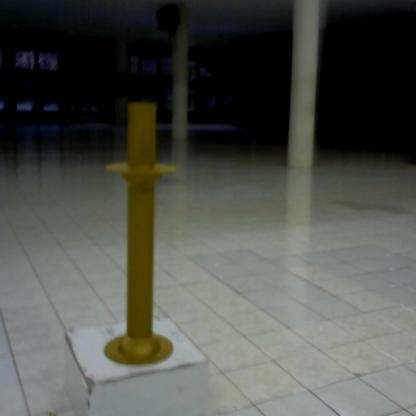pole: (98, 92, 181, 370)
